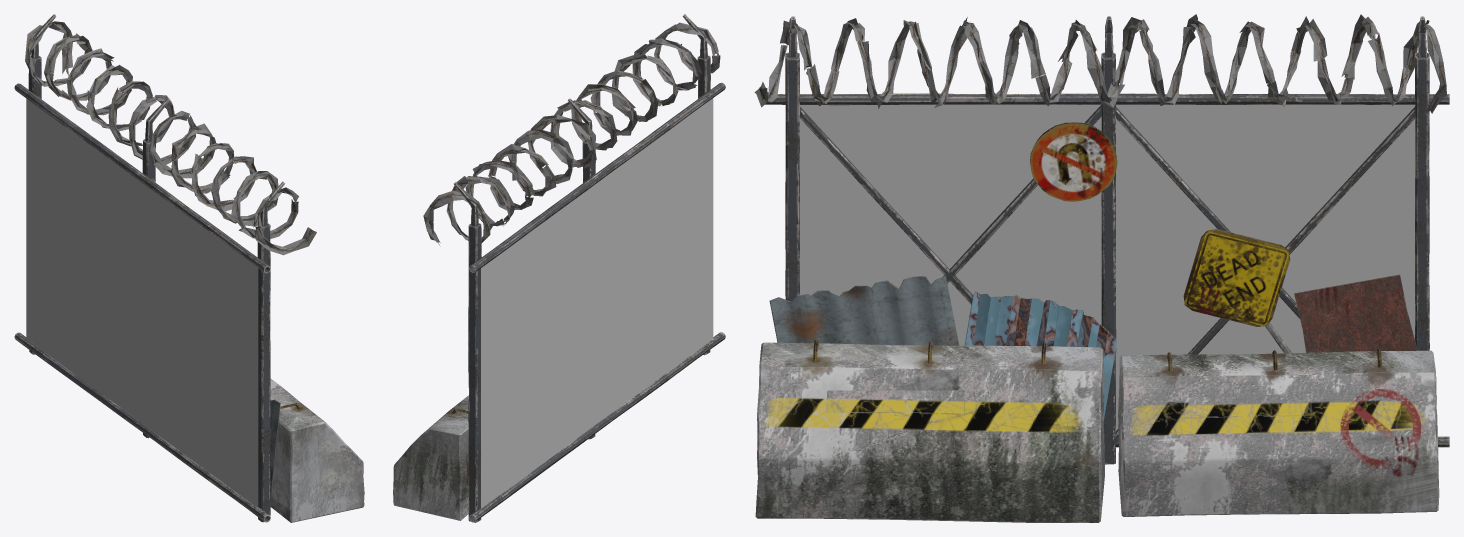
Rendered from Barricada_1.dae.
3 views of the same model, side by side, from view 1: azimuth 30°, elevation 25°; view 2: azimuth 150°, elevation 25°; view 3: azimuth 270°, elevation 25° (orthographic). The views are drawn at different scales.
Visible parts, largest first — view 1: Plane.005, Bloque_1.004, Plane.007; view 2: Plane.005, Bloque_1.004, Plane.007; view 3: Bloque_1.004, Plane.005, Plane.007.
Part boxes in pixels (bbox=[...]): Plane.005: bbox=[26, 99, 258, 507]; Bloque_1.004: bbox=[14, 14, 364, 522]; Plane.007: bbox=[25, 21, 316, 255]; Plane.005: bbox=[481, 98, 713, 508]; Bloque_1.004: bbox=[393, 14, 725, 522]; Plane.007: bbox=[423, 22, 720, 246]; Bloque_1.004: bbox=[755, 16, 1449, 522]; Plane.005: bbox=[799, 104, 1415, 431]; Plane.007: bbox=[754, 14, 1446, 115].
Size of the model in its own units: 3.04 by 12.14 by 8.86.
